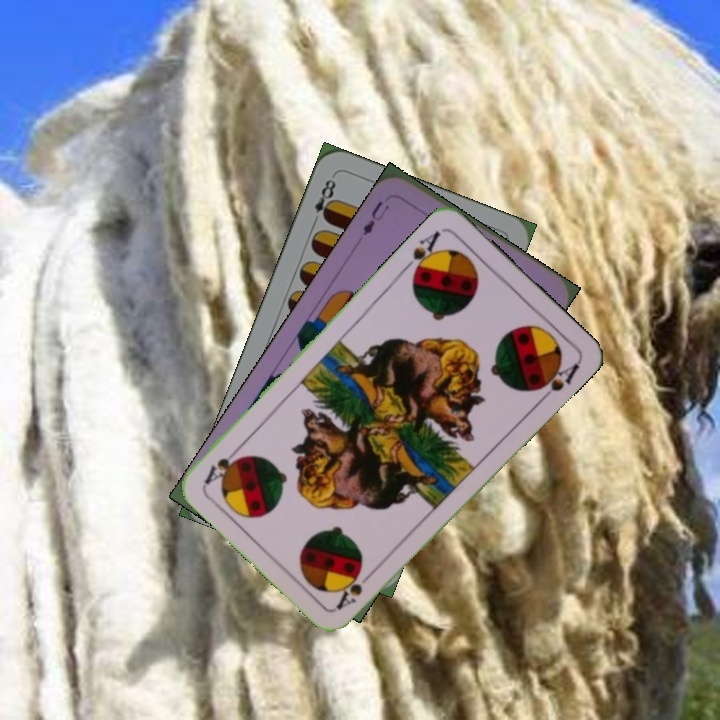E8: (308, 175, 339, 228)
EU: (358, 196, 392, 238)
SA: (399, 227, 444, 280), (332, 564, 379, 612)
